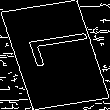L_E: (14, 35, 96, 75)
